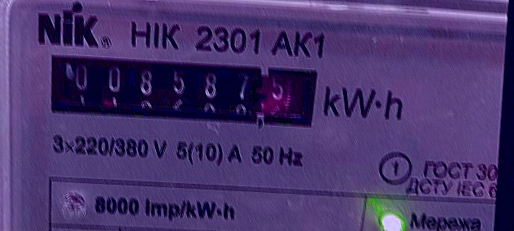0: (70, 60, 89, 90), (104, 63, 123, 92)
5: (267, 73, 286, 103), (168, 66, 186, 95)
7: (232, 69, 250, 100)
8: (200, 68, 218, 99), (136, 66, 153, 95)
screen: (28, 38, 334, 140)
